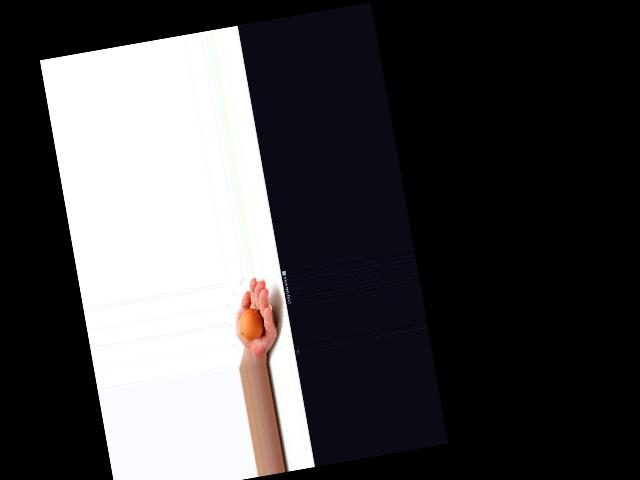egg: (236, 307, 266, 342)
